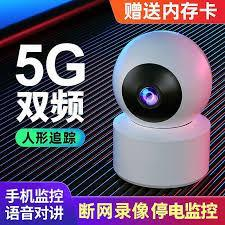maru: (113, 27, 214, 126)
